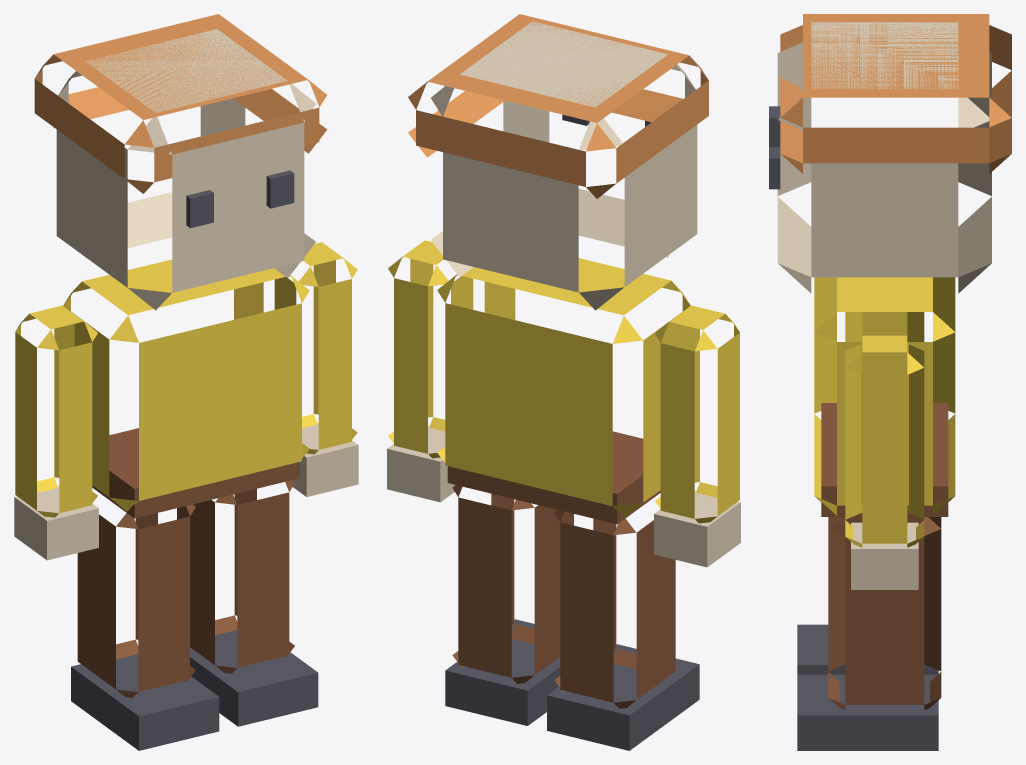
Rendered from citizen-c.glb.
The picture shows the model from 3 angles, left to right: view 1: azimuth 30°, elevation 25°; view 2: azimuth 150°, elevation 25°; view 3: azimuth 270°, elevation 25°; orthographic projection. The views are drawn at different scales.
Visible parts, largest first — view 1: Head, Body, LegR, LegL, ArmR, ArmL; view 2: Head, Body, LegR, LegL, ArmR, ArmL; view 3: Head, LegL, Body, ArmL, ArmR, LegR.
Boxes of the visible parts, <box> form: Head: <box>34,14,327,310</box>; Body: <box>63,259,309,518</box>; LegR: <box>71,504,219,750</box>; LegL: <box>177,480,318,726</box>; ArmR: <box>14,305,98,560</box>; ArmL: <box>274,242,358,496</box>; Head: <box>408,14,708,310</box>; Body: <box>437,258,690,524</box>; LegR: <box>547,510,699,750</box>; LegL: <box>445,485,573,725</box>; ArmR: <box>654,305,740,567</box>; ArmL: <box>387,240,473,502</box>; Head: <box>769,14,1011,293</box>; LegL: <box>797,517,941,750</box>; Body: <box>814,277,955,516</box>; ArmL: <box>845,335,924,589</box>; ArmR: <box>845,312,924,341</box>; LegR: <box>797,517,938,674</box>.
Bounding box in the file's own units: 0.1392 × 0.26 × 0.088.
